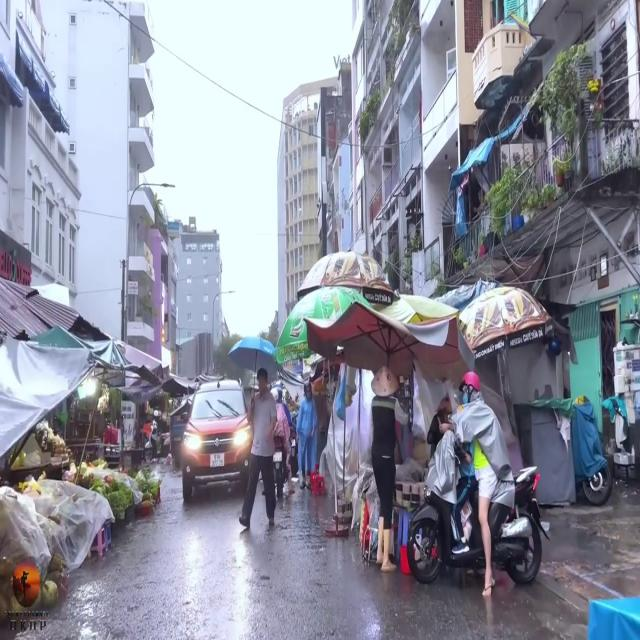bien_trang: (210, 453, 224, 468)
